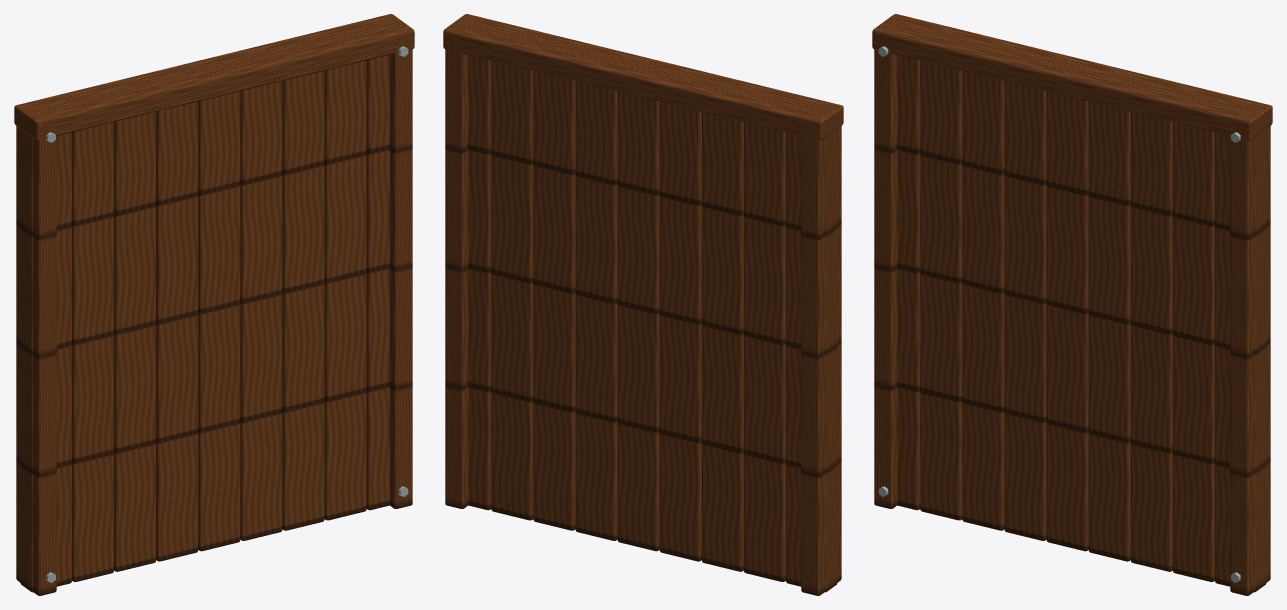
File: modular-survival-base-builder-wall-solid-stud-136b2082__24153.glb
3 renders of one model, left to right at view 1: azimuth 30°, elevation 25°; view 2: azimuth 150°, elevation 25°; view 3: azimuth 330°, elevation 25°, orthographic.
Parts seen in each view (by area): view 1: wall-solid-stud; view 2: wall-solid-stud; view 3: wall-solid-stud.
Boxes of the visible parts, bbox=[...] form: wall-solid-stud: bbox=[14, 14, 414, 595]; wall-solid-stud: bbox=[443, 14, 843, 595]; wall-solid-stud: bbox=[872, 14, 1272, 595].
Size of the model in its own units: 2 by 2.4 by 0.2335.
Materials: 2 (1 with a texture image).
